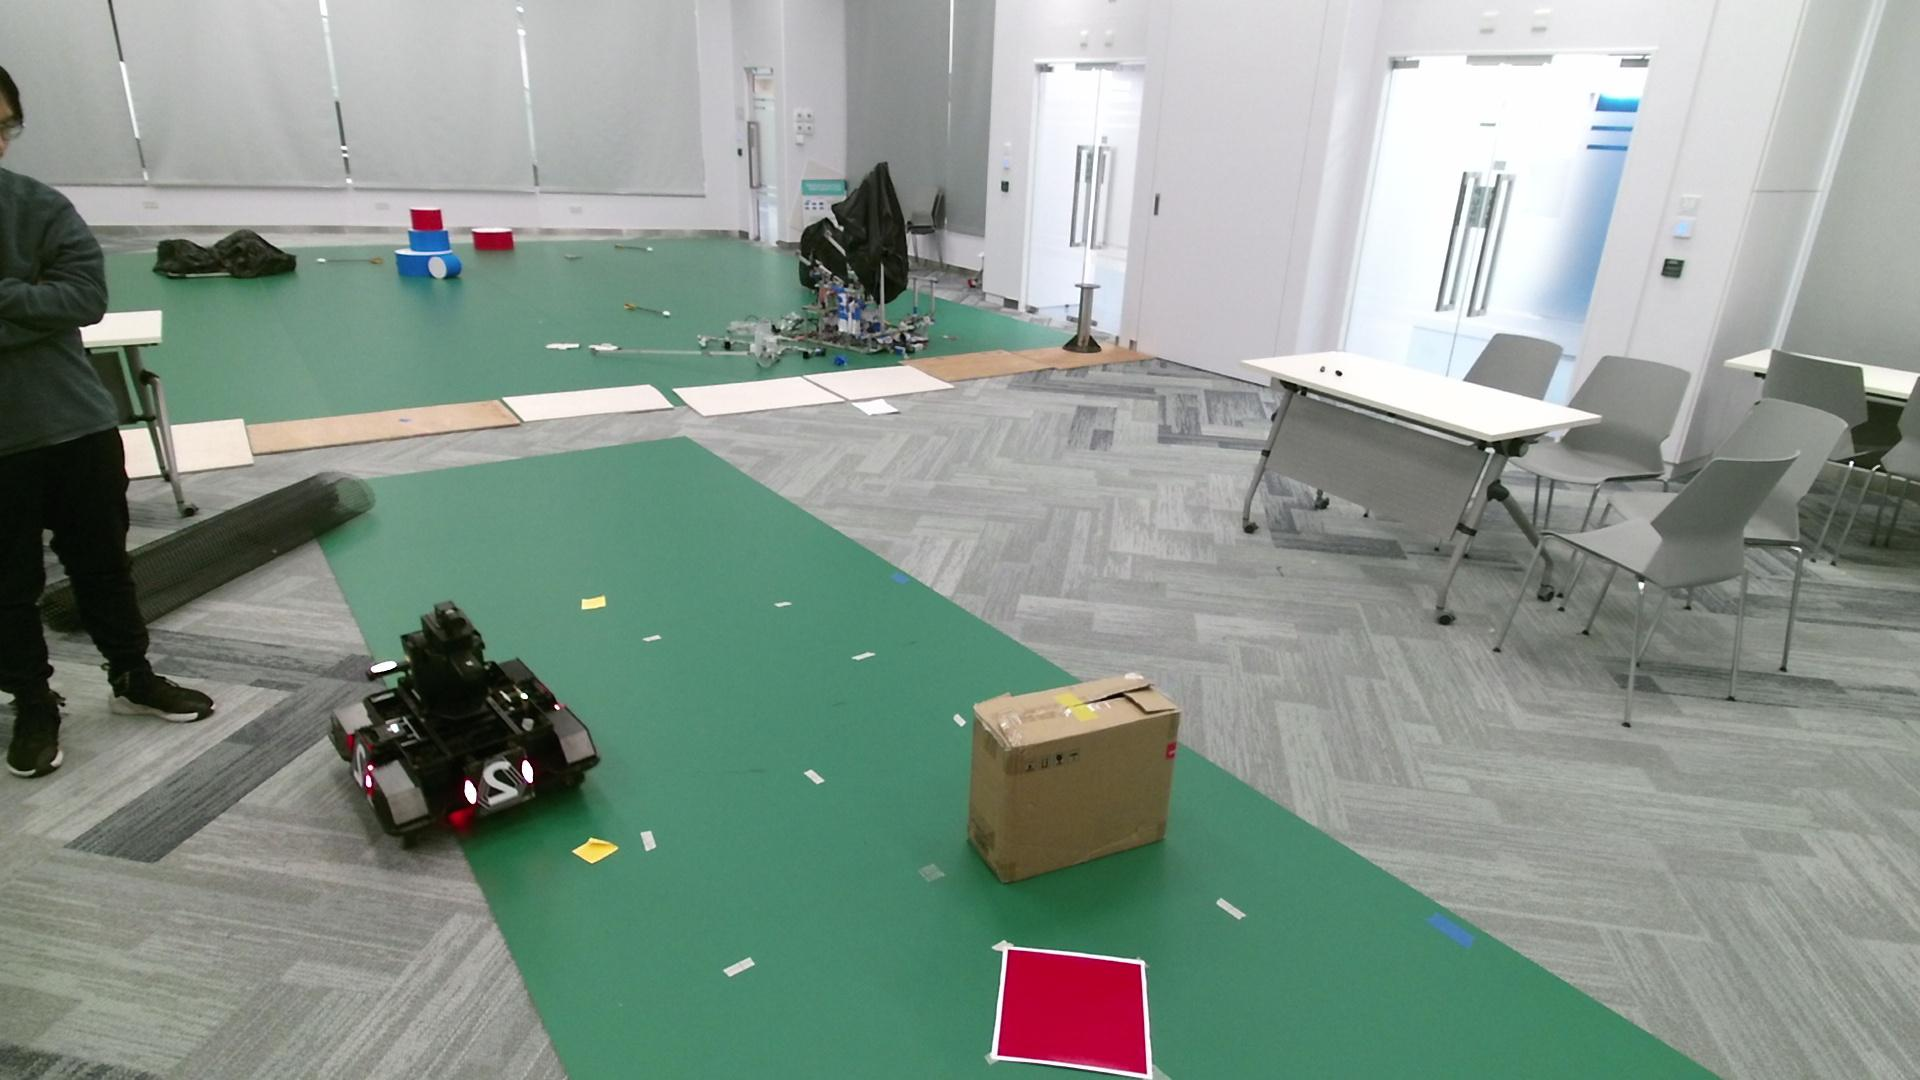robot: (328, 597, 599, 835)
